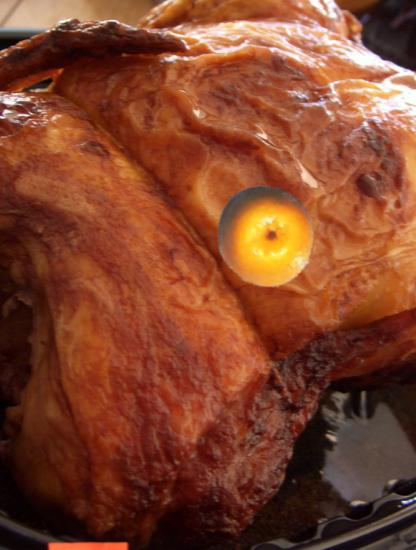Kumquats: (214, 185, 317, 288)
